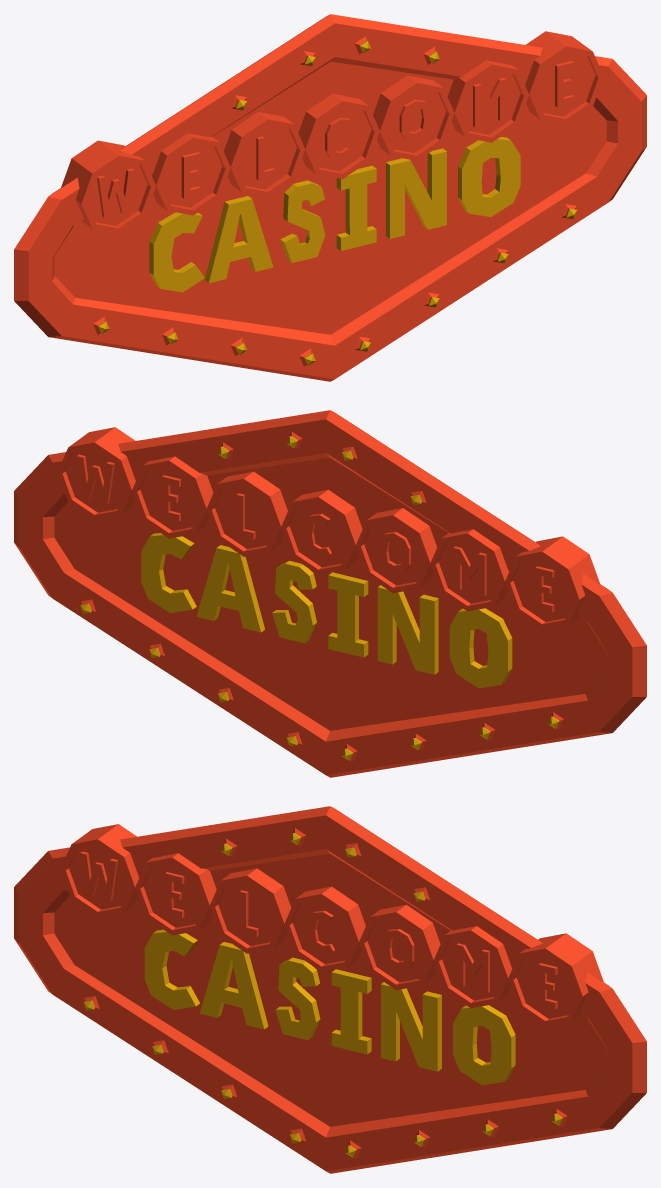
Rendered from SM_Neon_Casino_City.fbx.
3 views of the same model, one above another, from view 1: azimuth 30°, elevation 25°; view 2: azimuth 150°, elevation 25°; view 3: azimuth 330°, elevation 25° (orthographic).
Visible parts, largest first — view 1: SM_Neon_Casino_City; view 2: SM_Neon_Casino_City; view 3: SM_Neon_Casino_City.
Part boxes in pixels (x1,y1,x2,y2): SM_Neon_Casino_City: (14,14,646,381); SM_Neon_Casino_City: (14,410,646,777); SM_Neon_Casino_City: (14,806,646,1173).
Size of the model in its own units: 4.83 by 2.68 by 0.2762.
